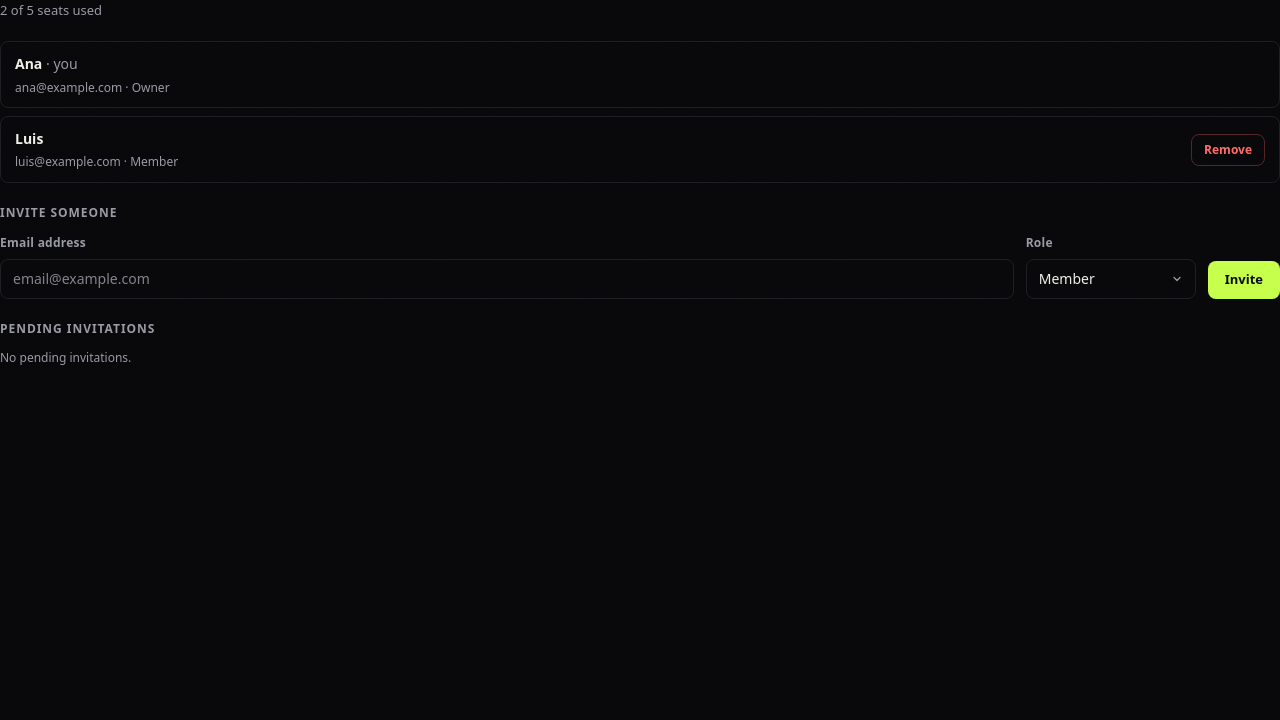
Test: TeamPanel — eliminar un miembro › un 403 (administrador quitando a otro) muestra la copy traducida, no el texto del servidor
Expected: the text "2 of 5 seats used" is shown, x1=0 y1=1 x2=102 y2=19
Click the button with aria-label "Remove Luis from the team".
click(1228, 150)  # box x1=1191 y1=134 x2=1265 y2=166
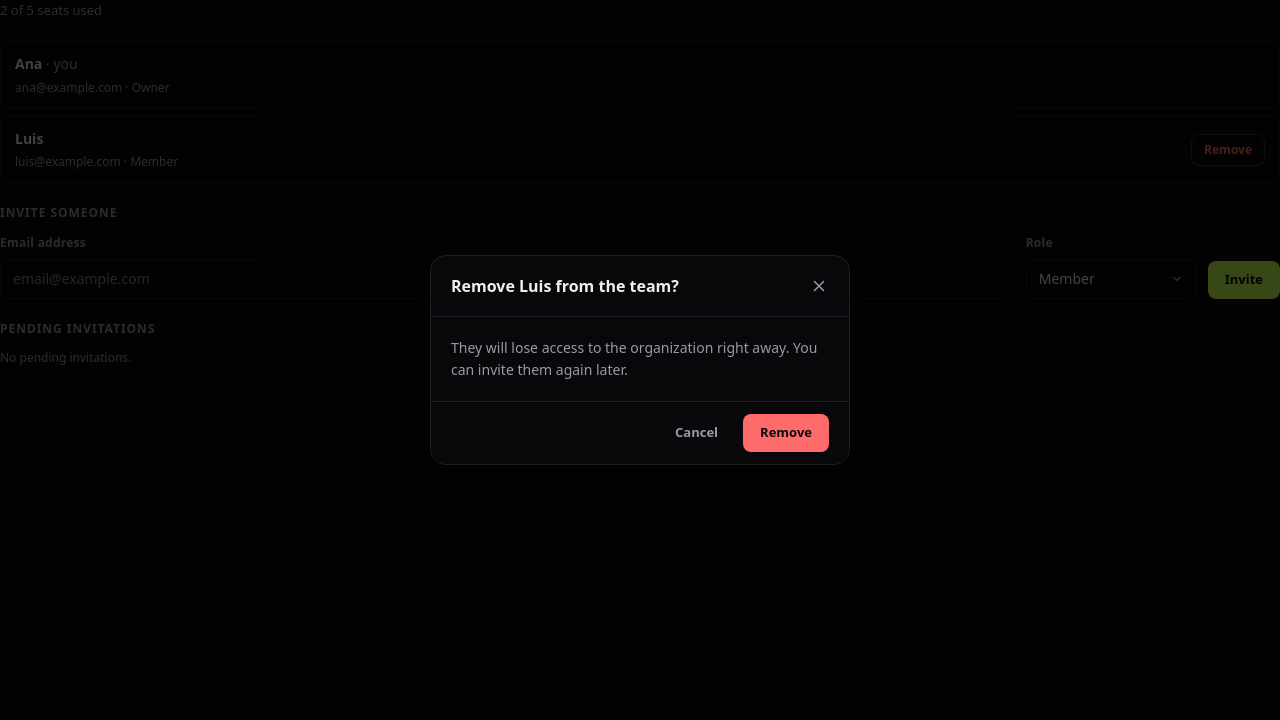
Click the button "Remove".
click(786, 433)  # box x1=743 y1=414 x2=829 y2=452
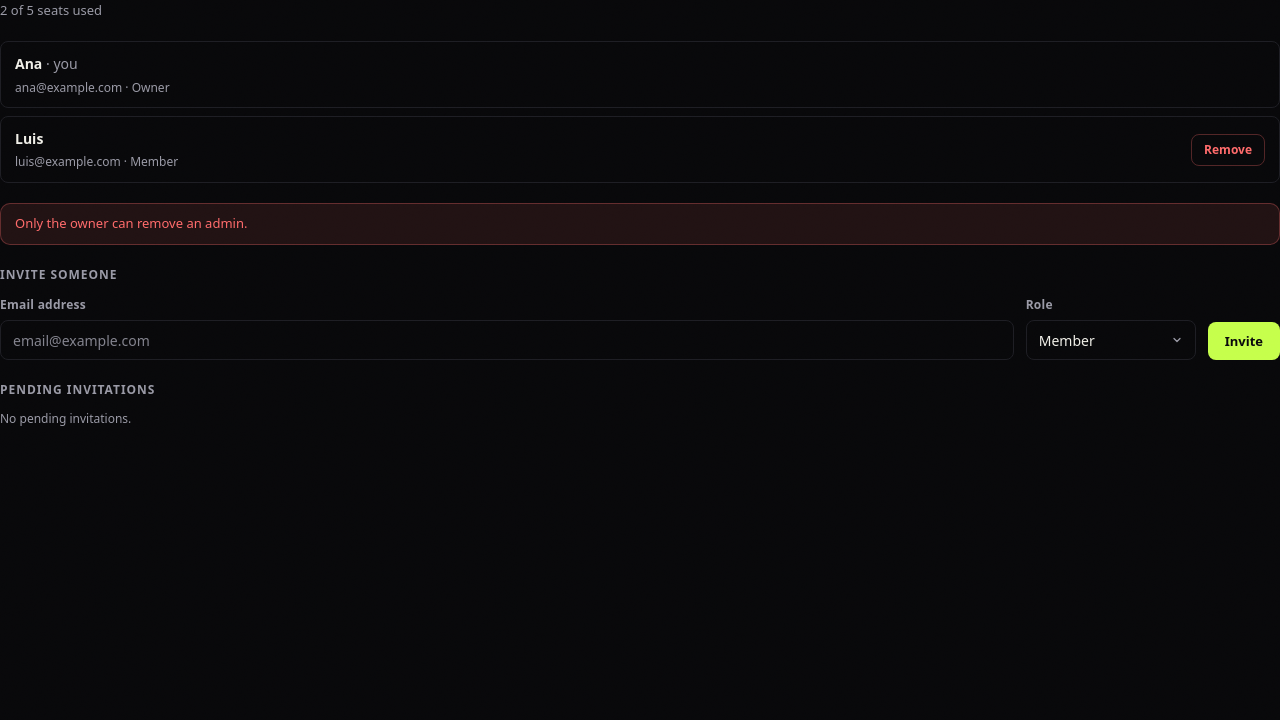
Expected: the text "Only the owner can remove an admin." is shown, x1=15 y1=214 x2=247 y2=234
